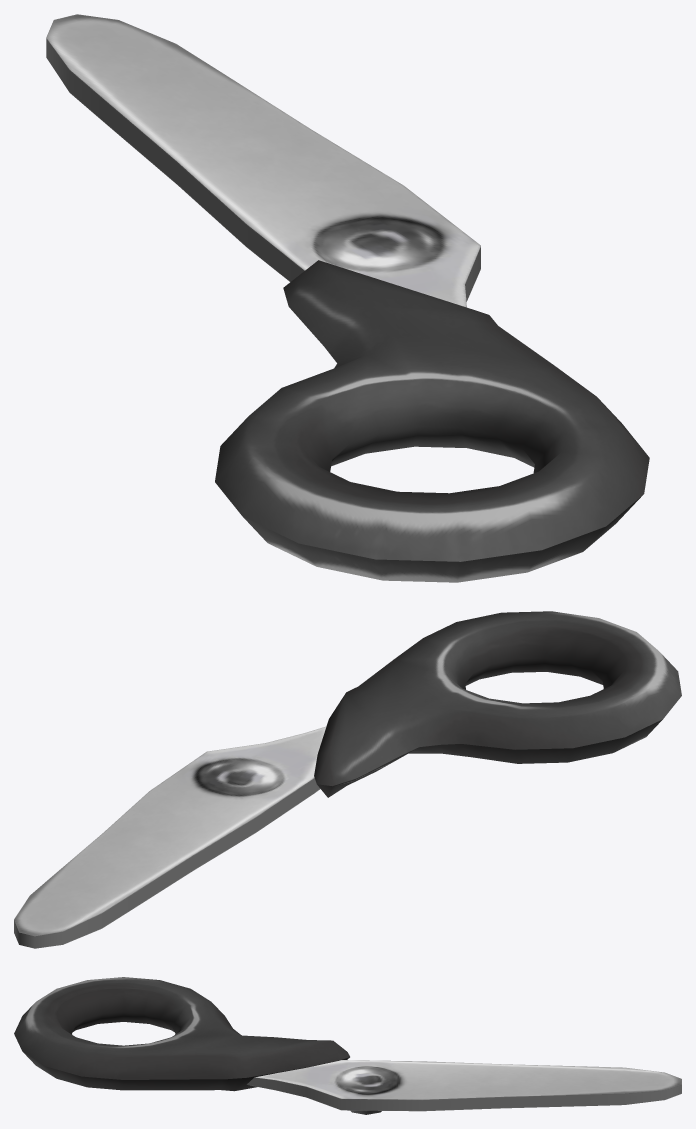
File: Scissor_02.obj
The picture shows the model from 3 angles, top to bottom: view 1: azimuth 30°, elevation 25°; view 2: azimuth 150°, elevation 25°; view 3: azimuth 270°, elevation 25°; orthographic projection. The views are drawn at different scales.
Parts seen in each view (by area): view 1: Scissor_02_sub0, Scissor_02_sub1; view 2: Scissor_02_sub0, Scissor_02_sub1; view 3: Scissor_02_sub0, Scissor_02_sub1.
Boxes of the visible parts, <box> form: Scissor_02_sub0: <box>215,260,649,582</box>; Scissor_02_sub1: <box>46,14,480,307</box>; Scissor_02_sub0: <box>314,611,681,797</box>; Scissor_02_sub1: <box>14,726,326,948</box>; Scissor_02_sub0: <box>14,977,349,1091</box>; Scissor_02_sub1: <box>246,1060,681,1114</box>.
Bounding box in the file's own units: 0.9747 × 0.1962 × 2.45.
2 materials, 2 textured.
